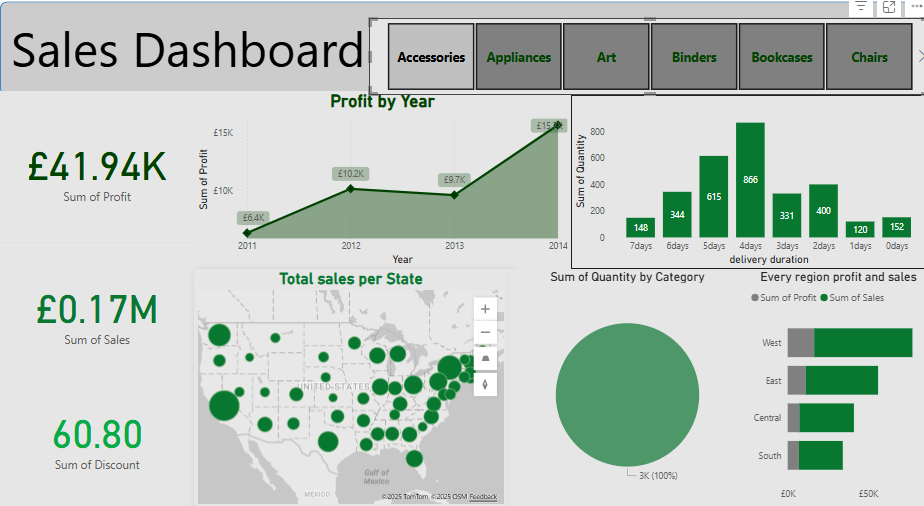

Layout of this report page (visuals, bound fields, positions):
{"tool":"powerbi","page":{"name":"Page 1","canvas":[1280,720],"ordinal":0},"visuals":[{"type":"shape","title":"    ","box":[0,0,1280,152.9],"z":0},{"type":"card","fields":{"Values":["Sum(Data.Profit)"]},"box":[0,147.3,267,213.3],"z":1000},{"type":"card","fields":{"Values":["Sum(Data.Discount)"]},"box":[0,527.1,267,192.7],"z":2000},{"type":"card","fields":{"Values":["Sum(Data.Sales)"]},"box":[0,360.6,267,181.7],"z":3000},{"type":"areaChart","title":"Profit by Year","fields":{"Category":["Data.Year"],"Y":["Sum(Data.Profit)"]},"box":[267,147.3,518.9,245],"z":4000},{"type":"azureMap","title":"Total sales per State","fields":{"Size":["Sum(Data.Sales)"],"Category":["Data.State"]},"box":[267,392.3,432.2,327.6],"z":5000},{"type":"pieChart","fields":{"Category":["Data.Category"],"Y":["Sum(Data.Quantity)"]},"box":[699.2,392.3,328.9,327.6],"z":6000},{"type":"slicer","fields":{"Values":["Data.Sub-Category"]},"box":[507.9,46.8,772.1,106],"z":7000},{"type":"clusteredColumnChart","fields":{"Category":["Data.delivery duration"],"Y":["Sum(Data.Quantity)"]},"box":[786,153,494,239],"z":8000},{"type":"barChart","title":"Every region profit and sales ","fields":{"Category":["Data.Region"],"Y":["Sum(Data.Profit)","Sum(Data.Sales)"]},"box":[1028,392,252,328],"z":9000}]}

Visuals, with their boxes in screenshot pixels (x1, y1, x2, y2), scaled from the page's 1280x720 canvas onto the 924x506 screenshot:
"    " shape: 0,0,923,107
card - Sum(Data.Profit): 0,104,193,253
card - Sum(Data.Discount): 0,370,193,505
card - Sum(Data.Sales): 0,253,193,381
"Profit by Year" areaChart: 193,104,567,276
"Total sales per State" azureMap: 193,276,505,505
pieChart - Data.Category x Sum(Data.Quantity): 505,276,742,505
slicer - Data.Sub-Category: 367,33,923,107
clusteredColumnChart - Data.delivery duration x Sum(Data.Quantity): 567,108,923,275
"Every region profit and sales " barChart: 742,275,923,505
